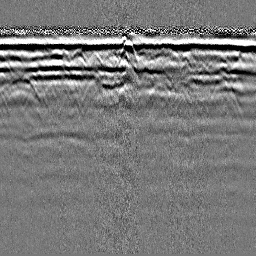cavity: (117, 38, 139, 64)
